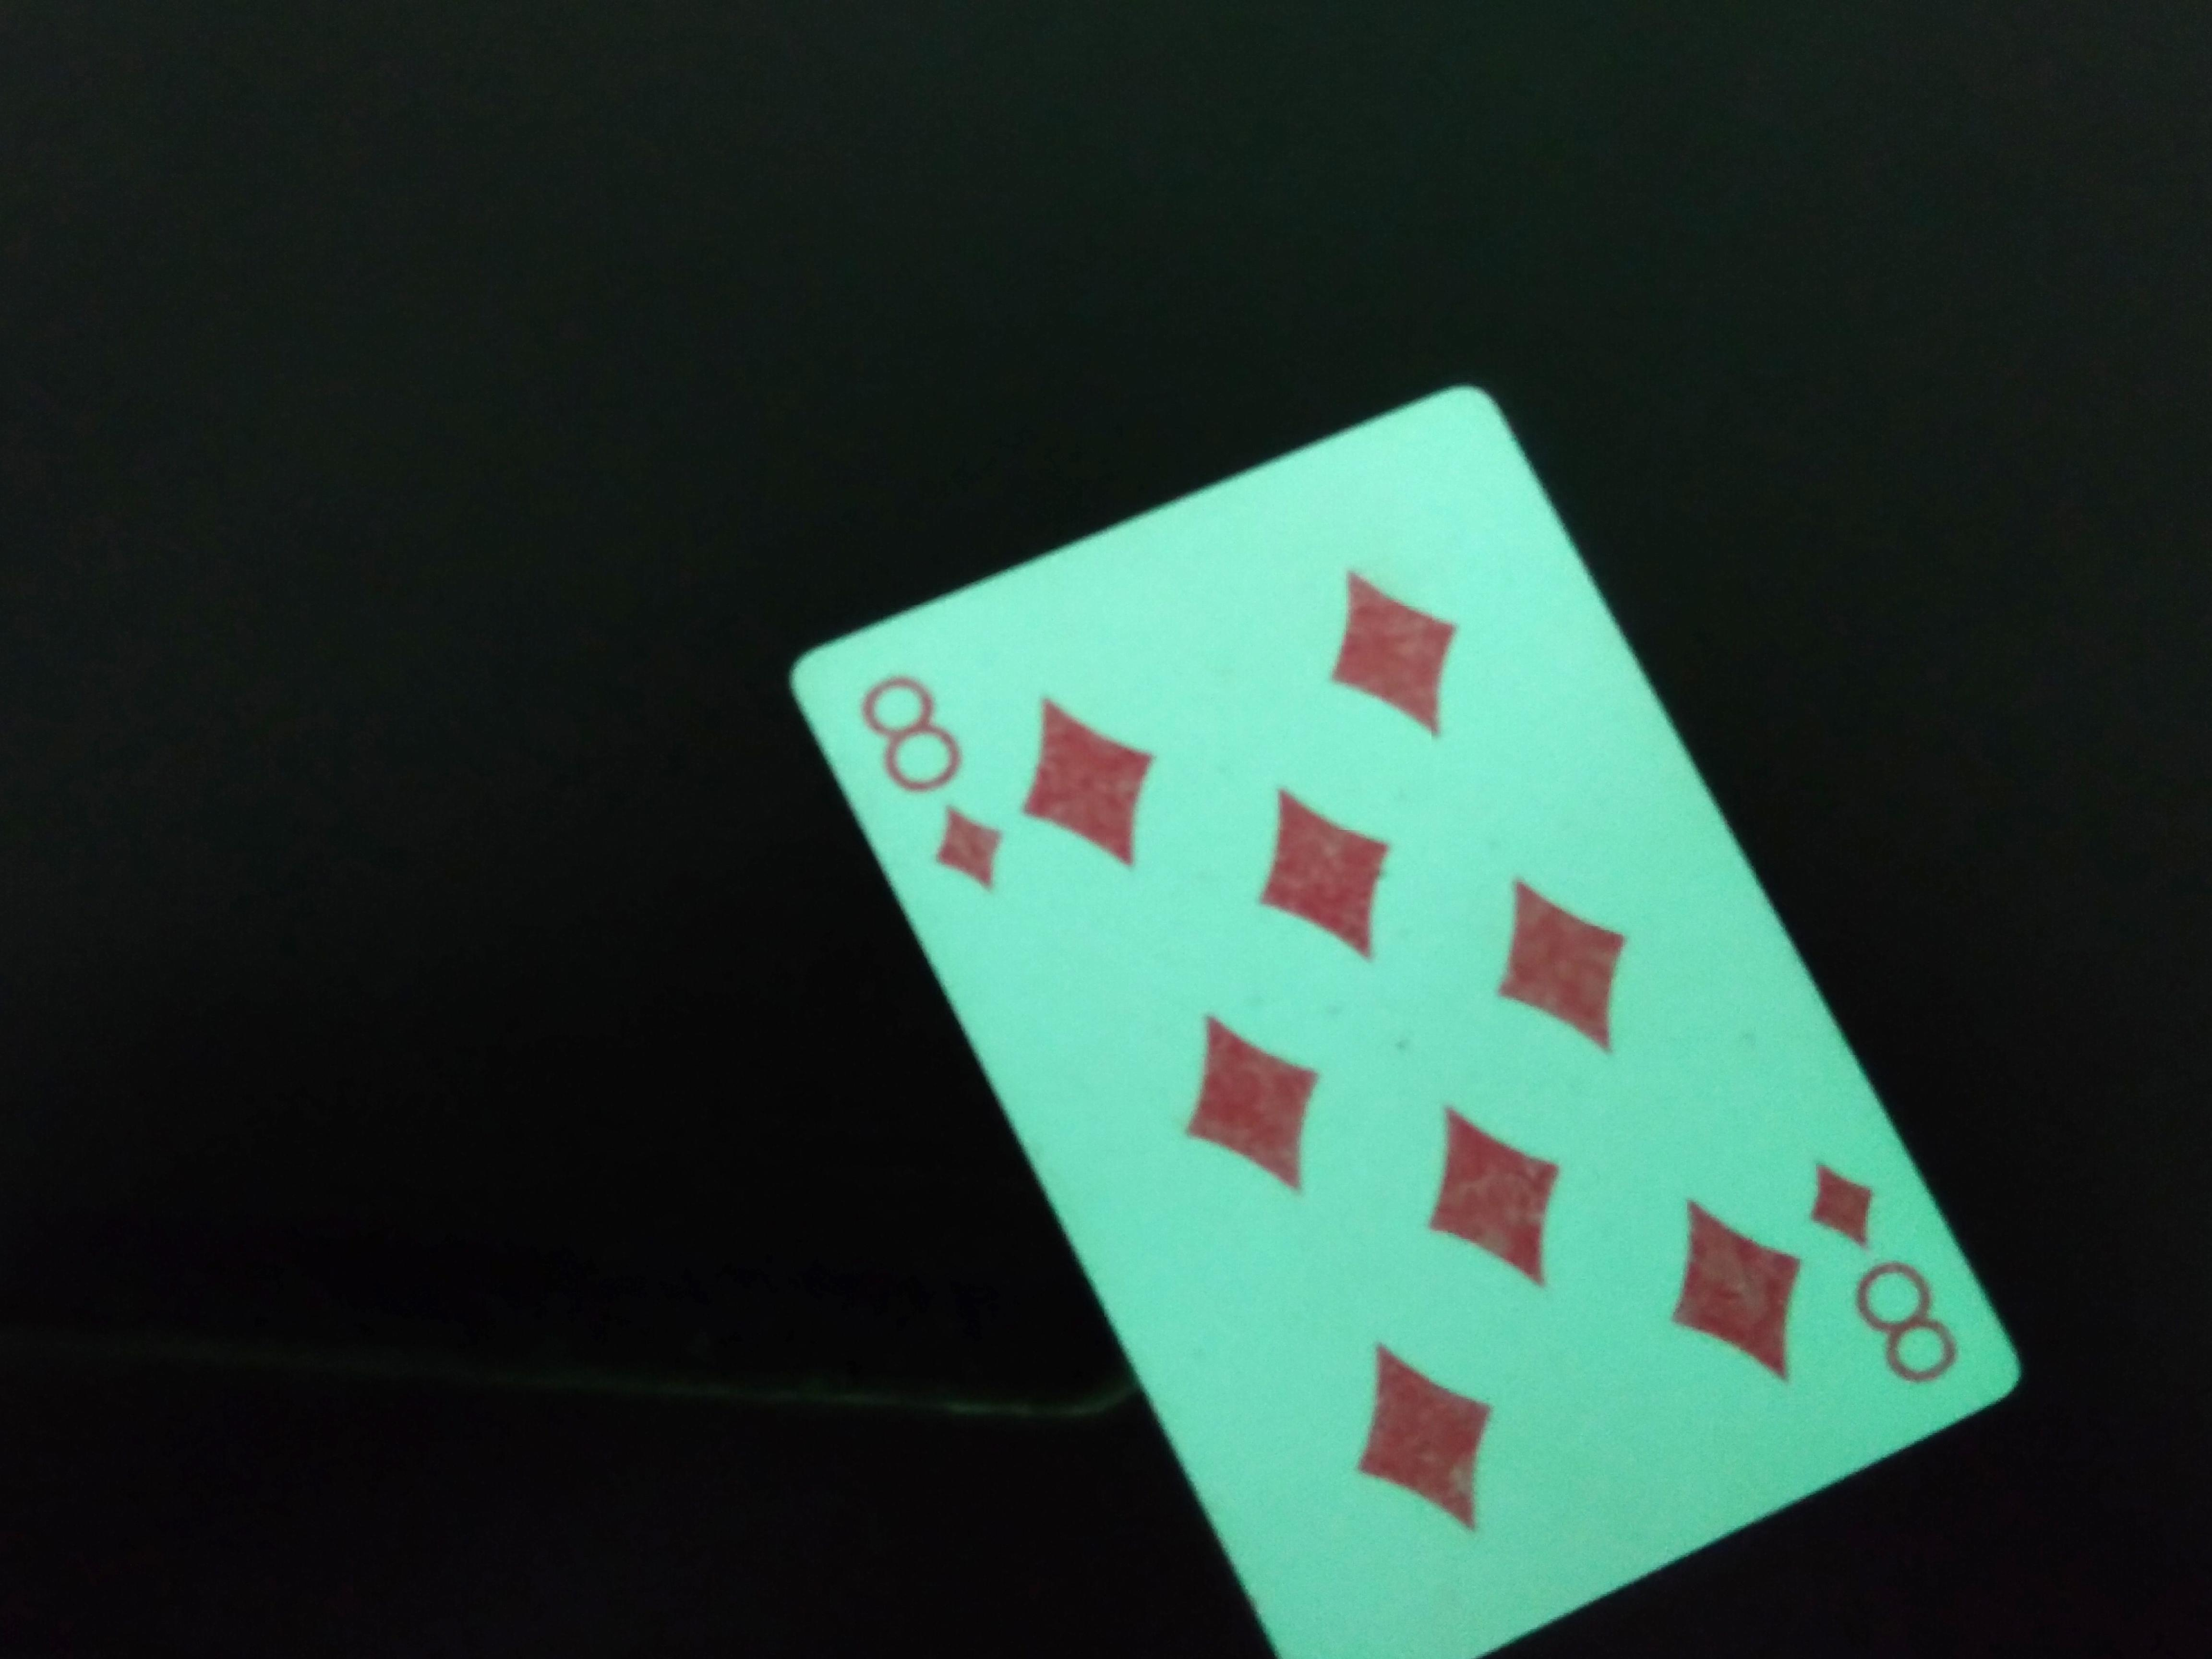8D: (843, 657, 1029, 906)
